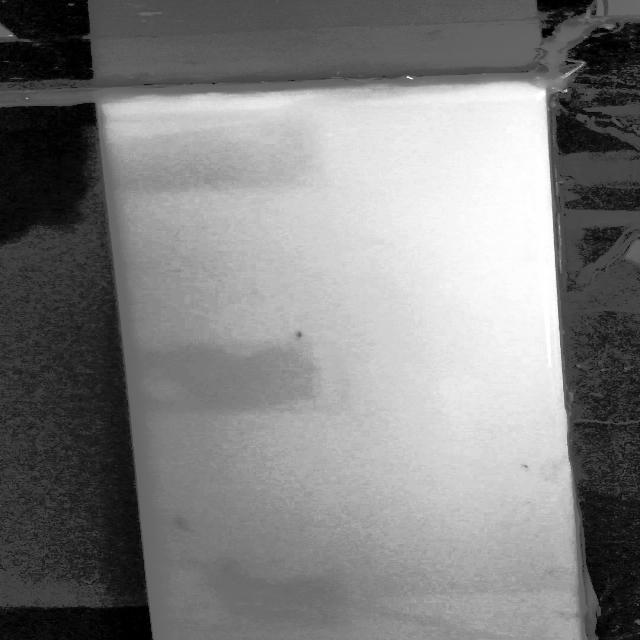shrimp: (168, 515, 192, 531), (518, 460, 536, 474), (214, 564, 235, 574), (298, 332, 311, 340)
